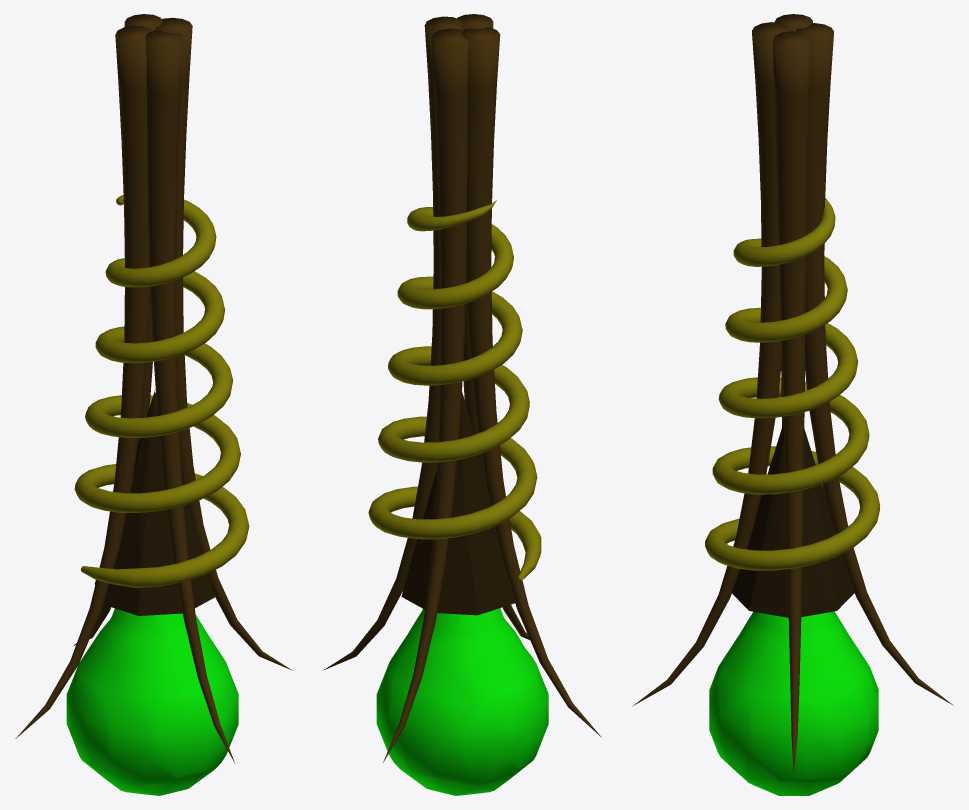
The picture shows the model from 3 angles, left to right: view 1: azimuth 30°, elevation 25°; view 2: azimuth 150°, elevation 25°; view 3: azimuth 270°, elevation 25°; orthographic projection.
Parts seen in each view (by area): view 1: BezierCurve.001, Mball.003; view 2: BezierCurve.001, Mball.003; view 3: BezierCurve.001, Mball.003.
Boxes of the visible parts, x1,y1,x2,y2 form: BezierCurve.001: (15,14,292,763); Mball.003: (66,608,238,795); BezierCurve.001: (323,14,601,762); Mball.003: (376,608,548,795); BezierCurve.001: (632,14,953,774); Mball.003: (709,611,878,795).
Size of the model in its own units: 96.39 by 249 by 96.39.
